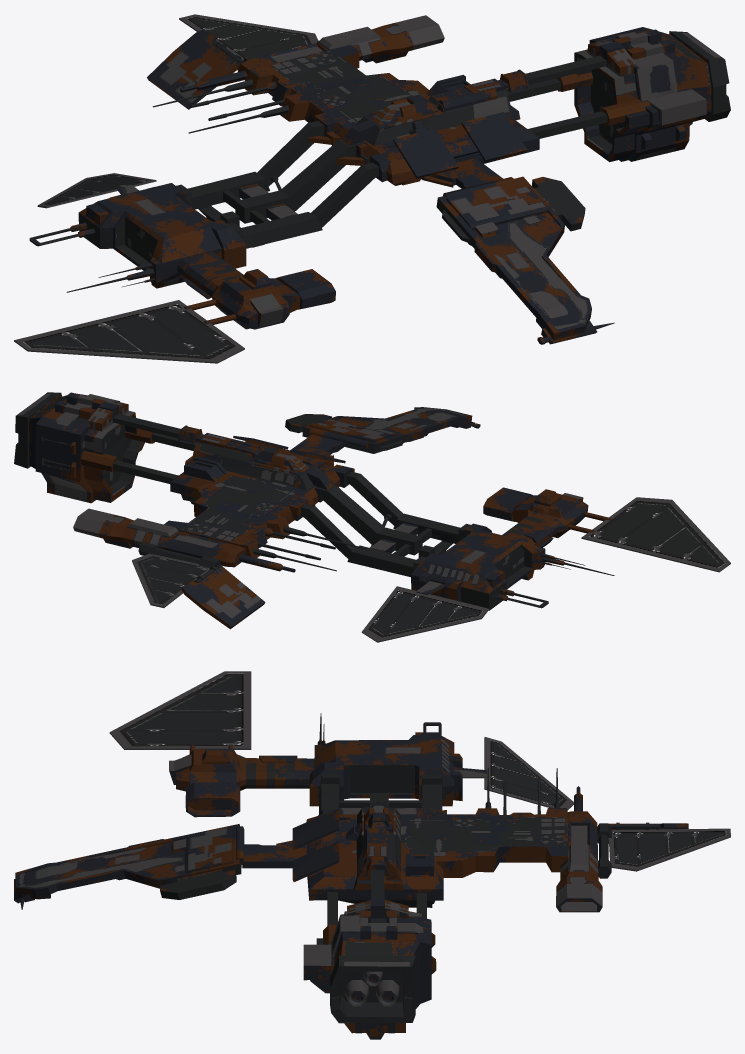
The model's file is burst.glb.
The picture shows the model from 3 angles, top to bottom: view 1: azimuth 30°, elevation 25°; view 2: azimuth 150°, elevation 25°; view 3: azimuth 270°, elevation 25°; orthographic projection. The views are drawn at different scales.
Parts seen in each view (by area): view 1: Burst; view 2: Burst; view 3: Burst.
Boxes of the visible parts, x1,y1,x2,y2 form: Burst: [14, 14, 730, 363]; Burst: [14, 392, 730, 642]; Burst: [14, 671, 730, 1039].
Size of the model in its own units: 124 by 17.91 by 106.
Materials: 1 (1 with a texture image).
